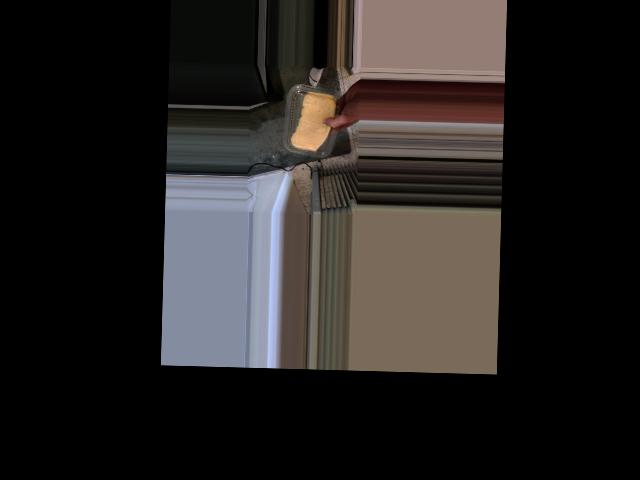cheese: (287, 84, 340, 157)
